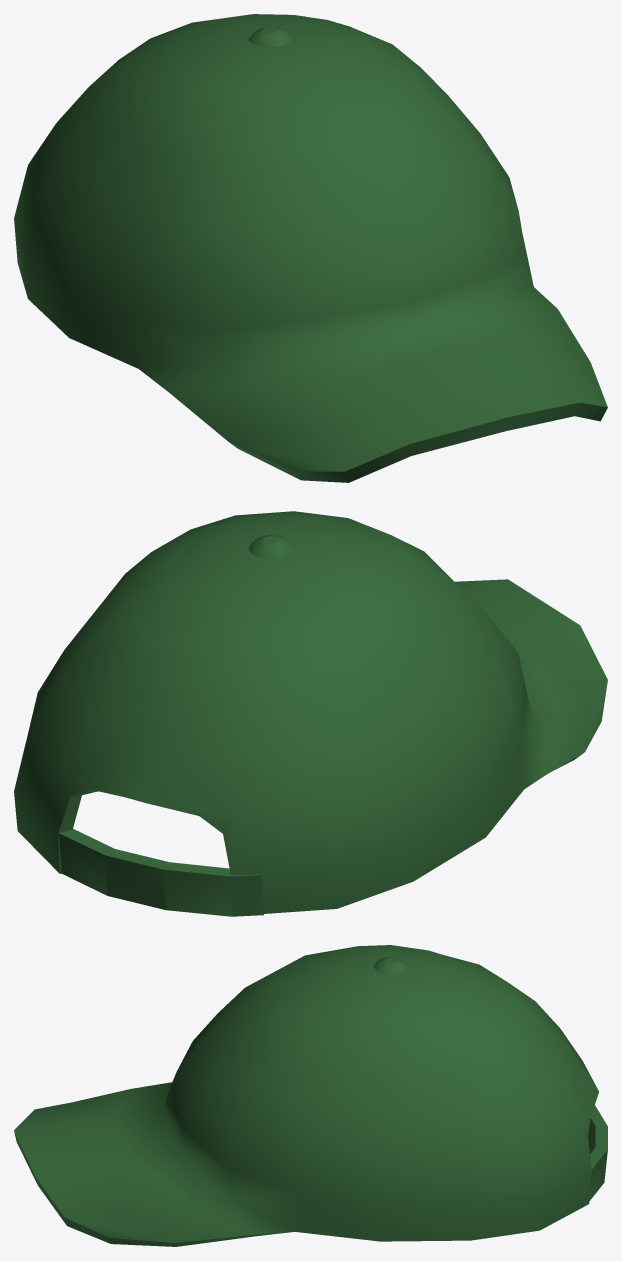
The model's file is W_Rose_Cap.fbx.
3 views of the same model, one above another, from view 1: azimuth 30°, elevation 25°; view 2: azimuth 150°, elevation 25°; view 3: azimuth 270°, elevation 25° (orthographic). The views are drawn at different scales.
Parts seen in each view (by area): view 1: Sphere008; view 2: Sphere008; view 3: Sphere008.
Boxes of the visible parts, left/top/right/bottom form: Sphere008: left=14, top=14, right=607, bottom=482; Sphere008: left=14, top=511, right=607, bottom=916; Sphere008: left=14, top=945, right=607, bottom=1246.
Bounding box in the file's own units: 16.29 × 10.66 × 25.27.
